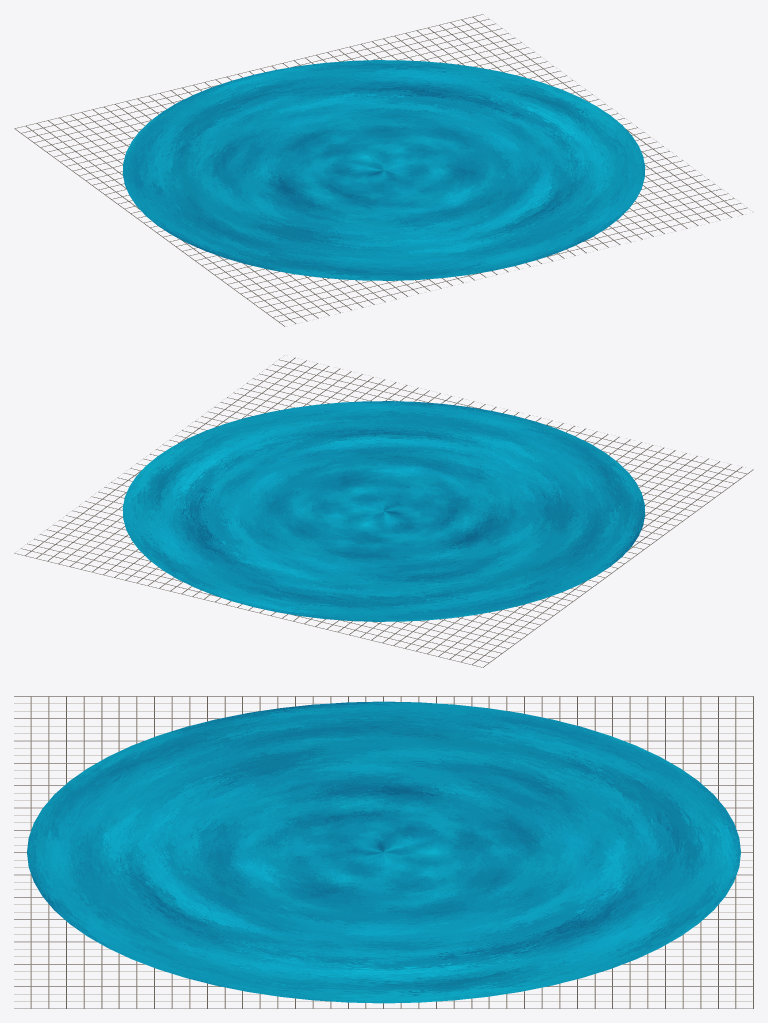
Rendered from Water_Circle_3_Highpoly.glb.
3 views of the same model, one above another, from view 1: azimuth 30°, elevation 25°; view 2: azimuth 150°, elevation 25°; view 3: azimuth 270°, elevation 25° (orthographic). The views are drawn at different scales.
Parts seen in each view (by area): view 1: Water_Circle_3_Highpoly, Floor; view 2: Water_Circle_3_Highpoly, Floor; view 3: Water_Circle_3_Highpoly, Floor.
Boxes of the visible parts, bbox=[...] form: Water_Circle_3_Highpoly: bbox=[122, 60, 645, 280]; Floor: bbox=[14, 14, 747, 326]; Water_Circle_3_Highpoly: bbox=[122, 401, 645, 621]; Floor: bbox=[14, 355, 753, 667]; Water_Circle_3_Highpoly: bbox=[27, 701, 740, 1003]; Floor: bbox=[14, 696, 753, 1008].
Bounding box in the file's own units: 4200 × 0.000852 × 4200.
2 materials, 2 textured.
